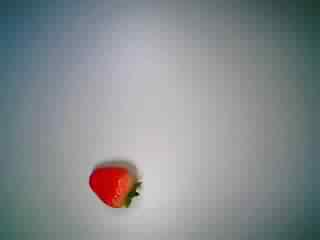strawberry: (80, 149, 146, 215)
